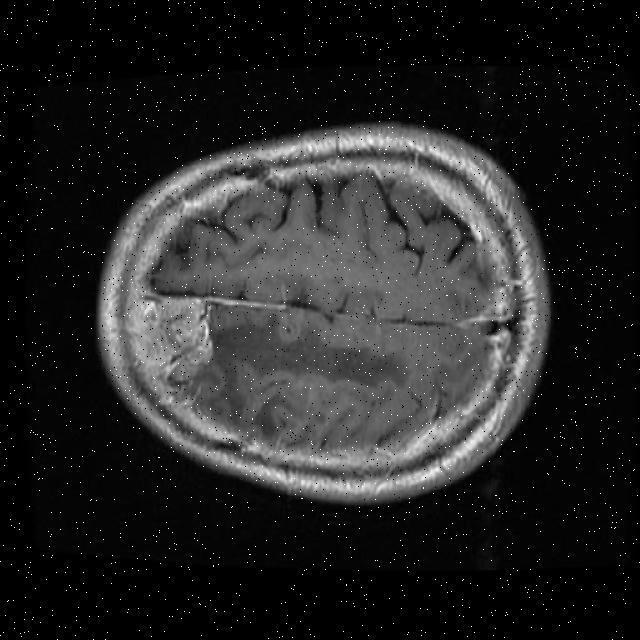Meningioma: (127, 295, 211, 387)
